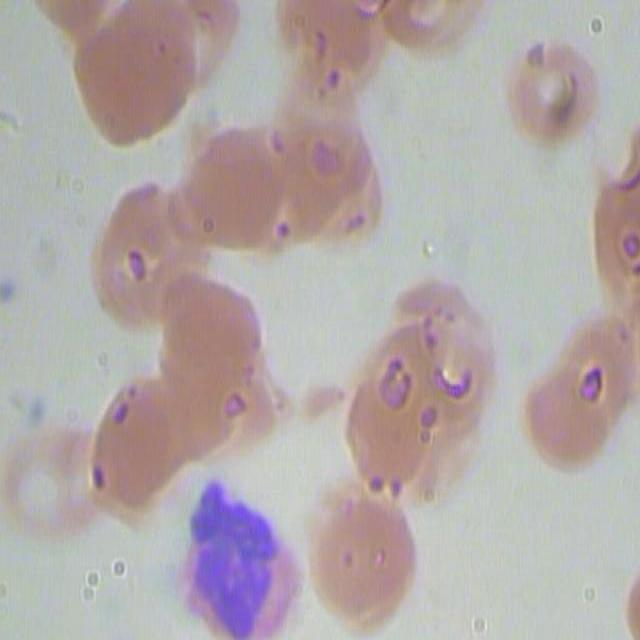RBC: (342, 273, 480, 515), (150, 270, 281, 465), (184, 105, 311, 258), (294, 479, 414, 631), (73, 0, 193, 151), (521, 318, 637, 471), (276, 114, 392, 258), (92, 173, 196, 329), (90, 372, 190, 532), (0, 382, 96, 547), (280, 2, 386, 120), (504, 38, 598, 144), (354, 0, 490, 66), (594, 137, 640, 294)
WBC: (197, 474, 288, 631)
